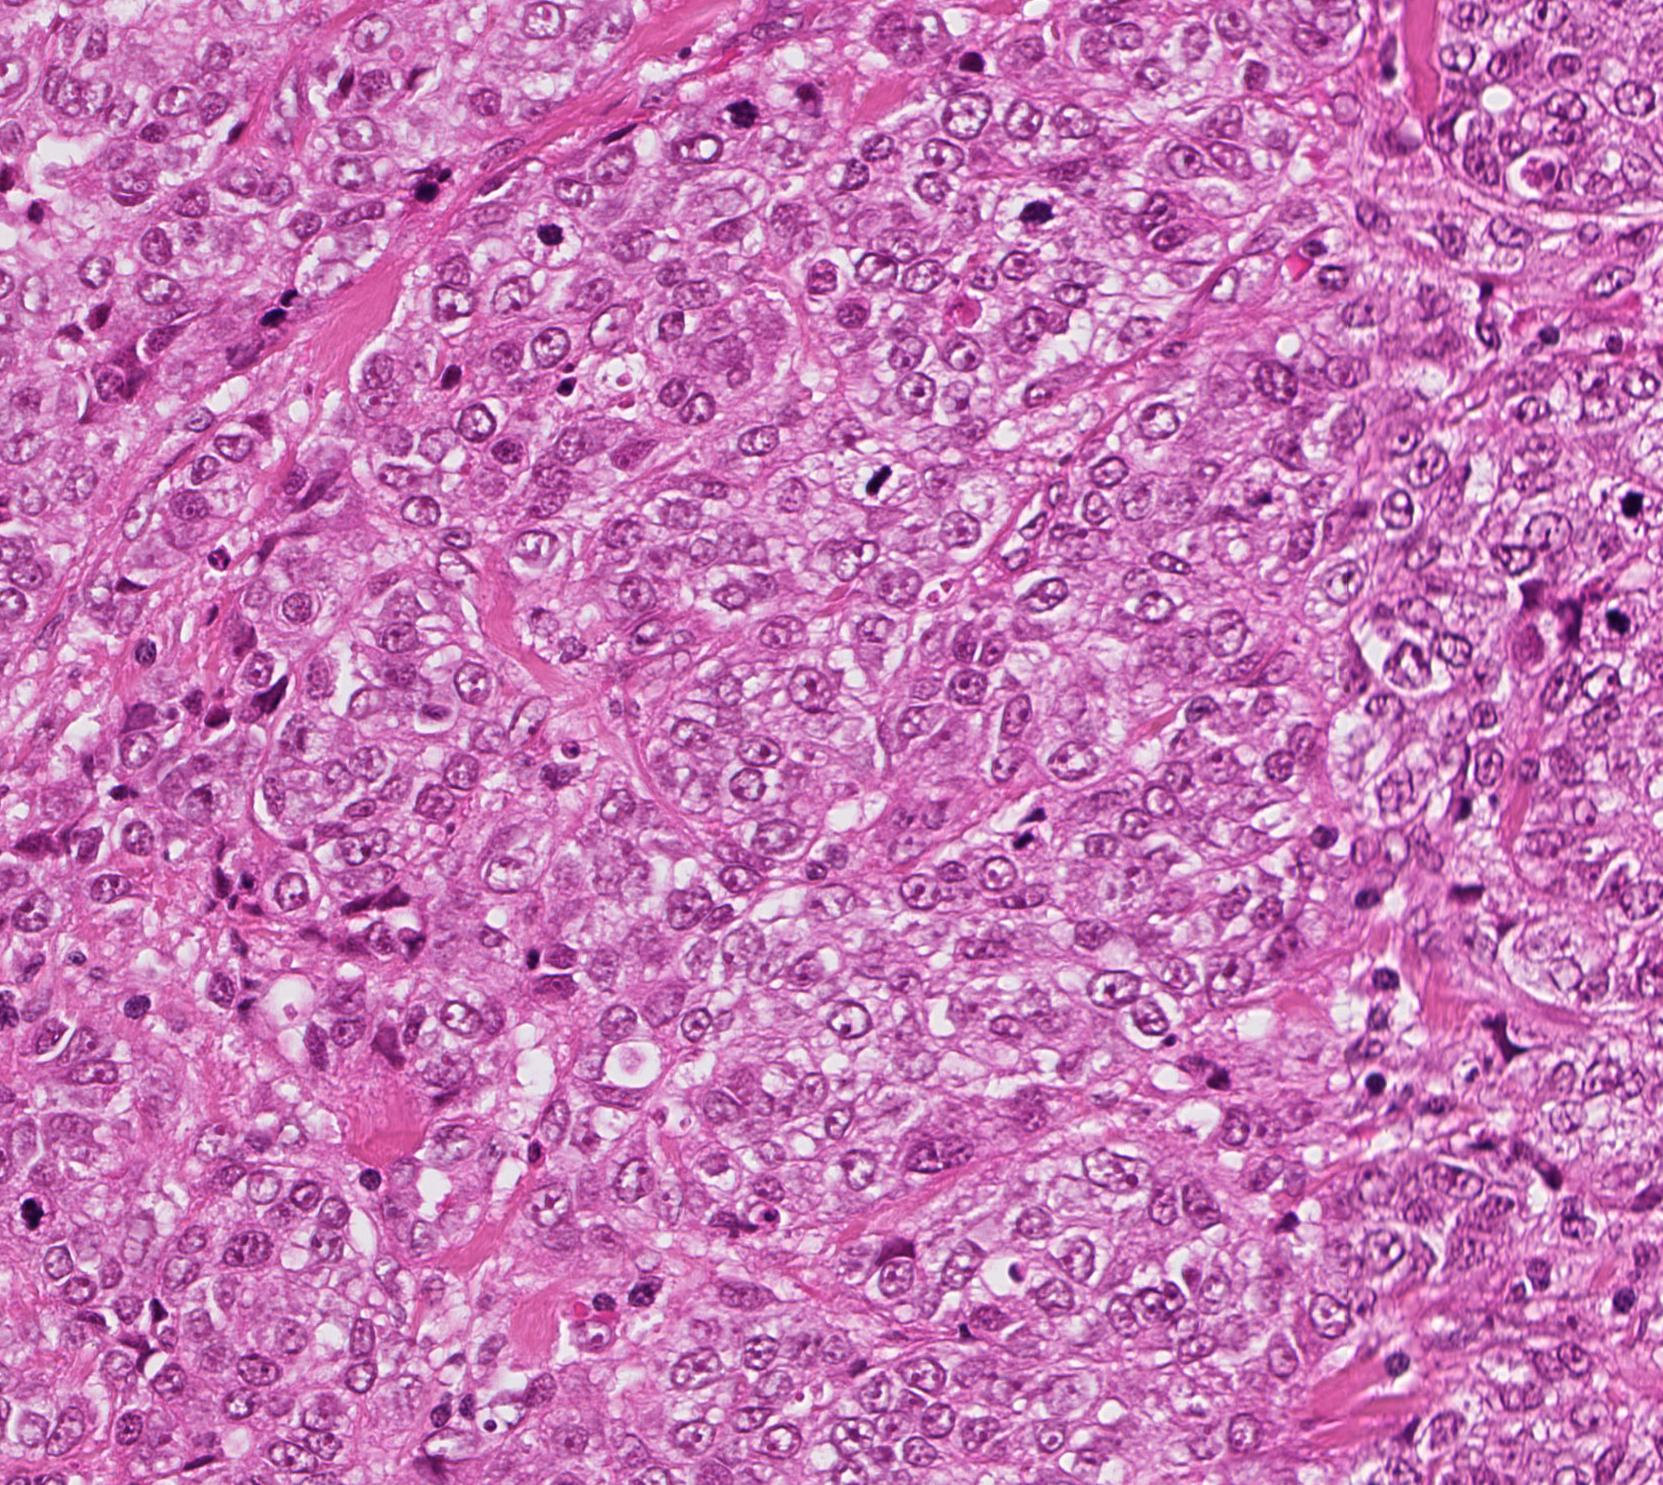mitosis: (704, 77, 764, 138), (847, 447, 907, 507), (525, 198, 585, 258), (1004, 183, 1064, 244), (1597, 470, 1657, 530), (1586, 591, 1646, 649)
